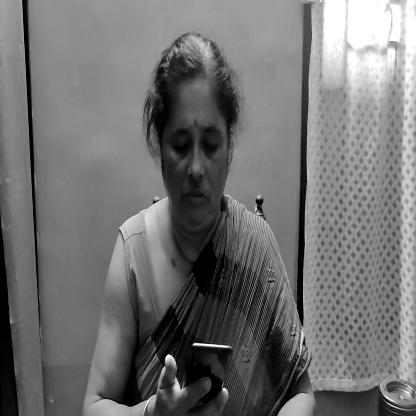Normal: (146, 38, 239, 238)
